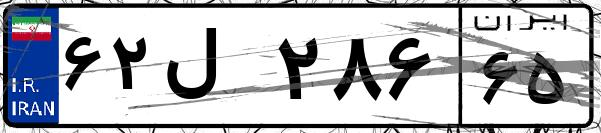2: (270, 28, 330, 110), (110, 28, 158, 98)
5: (525, 38, 570, 115)
6: (385, 28, 445, 110), (57, 26, 110, 100), (475, 38, 525, 113)
8: (330, 28, 385, 110)
ل: (158, 20, 270, 120)
